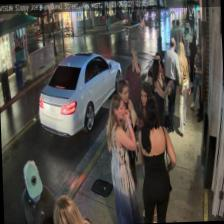person: (135, 96, 178, 223), (104, 93, 138, 224), (111, 78, 140, 211), (134, 80, 158, 222), (19, 158, 55, 224), (150, 58, 176, 145), (124, 48, 142, 136), (145, 52, 165, 120), (52, 192, 91, 224)
